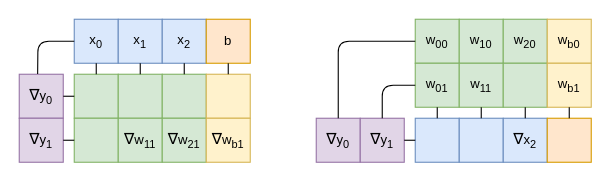
Image size: 611x182. Some labels were removed from this diagram. The shapes that lost their labels are listed below. From the top down, each one's centre as x and y in pixels, then its label:
At (95,95): "∇ w 00".
At (139,95): "∇ w 10".
At (183,95): "∇ w 20".
At (227,95): "∇ w b0".
At (524,84): "w 21".
At (95,139): "∇ w 01".
At (436,139): "∇ x 0".
At (480,139): "∇ x 1".
At (568,139): "∇ b".
